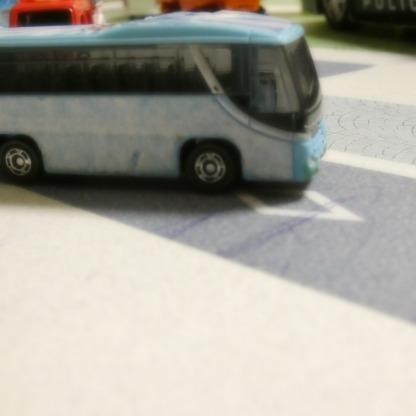car: (0, 20, 326, 190)
